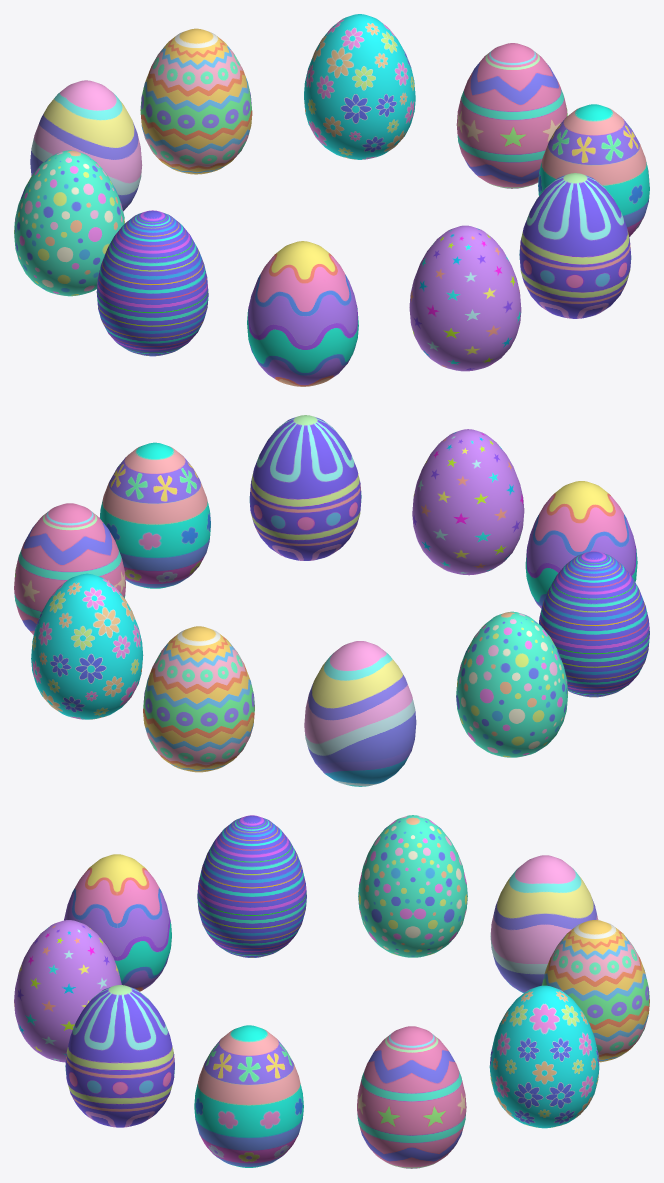
File: easter_eggs_party_collection.glb
The picture shows the model from 3 angles, top to bottom: view 1: azimuth 30°, elevation 25°; view 2: azimuth 150°, elevation 25°; view 3: azimuth 270°, elevation 25°; orthographic projection. The views are drawn at different scales.
Visible parts, largest first — view 1: Egg01, Egg06, Egg10, Egg07, Egg02, Egg03, Egg04, Egg08, Egg05, Egg09; view 2: Egg06, Egg05, Egg07, Egg10, Egg01, Egg04, Egg09, Egg03, Egg08, Egg02; view 3: Egg07, Egg04, Egg03, Egg08, Egg09, Egg10, Egg01, Egg06, Egg05, Egg02.
Part boxes in pixels (x1=…): Egg01: x1=409, y1=225, x2=521, y2=371; Egg06: x1=140, y1=28, x2=252, y2=174; Egg10: x1=519, y1=173, x2=631, y2=318; Egg07: x1=304, y1=14, x2=415, y2=159; Egg02: x1=247, y1=241, x2=358, y2=386; Egg03: x1=96, y1=210, x2=208, y2=356; Egg04: x1=14, y1=150, x2=124, y2=296; Egg08: x1=456, y1=43, x2=567, y2=188; Egg05: x1=30, y1=80, x2=142, y2=211; Egg09: x1=538, y1=104, x2=649, y2=236; Egg06: x1=143, y1=626, x2=254, y2=772; Egg05: x1=304, y1=641, x2=416, y2=786; Egg07: x1=31, y1=573, x2=143, y2=719; Egg10: x1=249, y1=415, x2=361, y2=560; Egg01: x1=412, y1=429, x2=524, y2=575; Egg04: x1=456, y1=611, x2=567, y2=757; Egg09: x1=99, y1=442, x2=210, y2=588; Egg03: x1=539, y1=551, x2=649, y2=697; Egg08: x1=14, y1=503, x2=125, y2=634; Egg02: x1=525, y1=481, x2=637, y2=608; Egg07: x1=489, y1=985, x2=599, y2=1128; Egg04: x1=358, y1=815, x2=467, y2=957; Egg03: x1=197, y1=815, x2=306, y2=957; Egg08: x1=357, y1=1026, x2=466, y2=1168; Egg09: x1=194, y1=1025, x2=303, y2=1167; Egg10: x1=65, y1=985, x2=174, y2=1127; Egg01: x1=14, y1=920, x2=121, y2=1062; Egg06: x1=542, y1=920, x2=649, y2=1062; Egg05: x1=490, y1=855, x2=598, y2=993; Egg02: x1=64, y1=854, x2=171, y2=991.
Bounding box in the file's own units: 11.1 × 2.72 × 11.59.
Materials: 10 (10 with a texture image).
